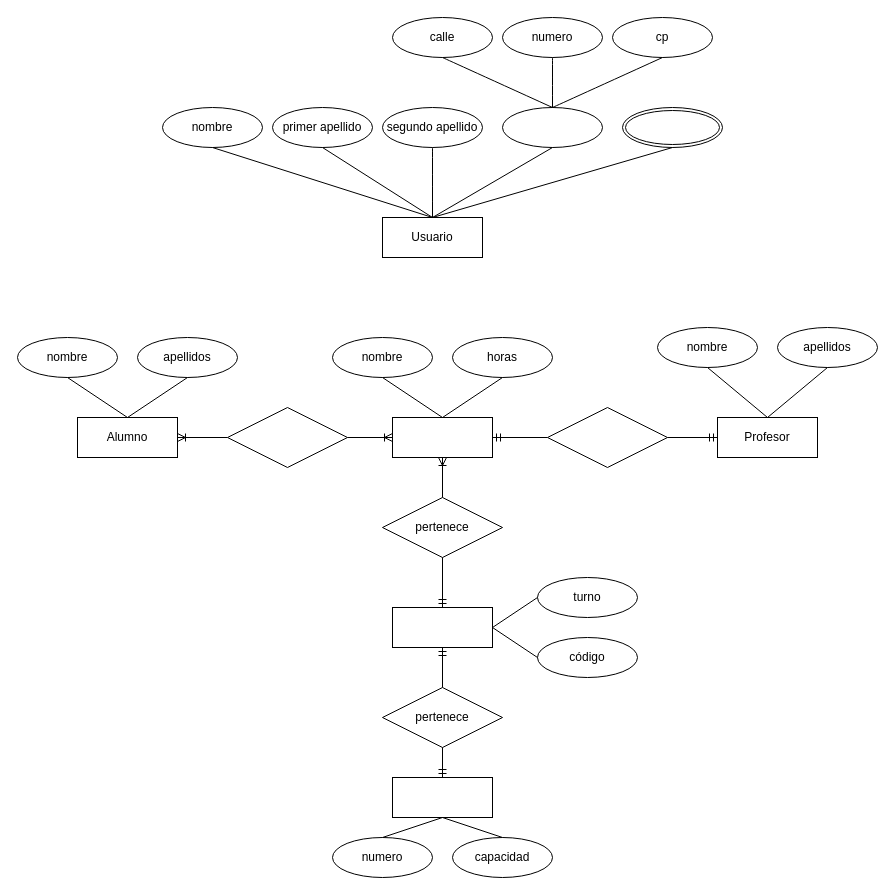
Image size: 895x895. Some labels were removed from this diagram. The shapes that lost their labels are listed below. From the top down, each one's box as (x1, y1, x2, y2) in pixels, then its label:
(502, 106, 602, 148): direccion
(622, 106, 722, 148): tlf
(226, 406, 348, 468): cursa
(392, 416, 492, 458): Asignatura
(546, 406, 668, 468): es impartida
(392, 606, 492, 648): Curso
(392, 776, 492, 818): Aula
